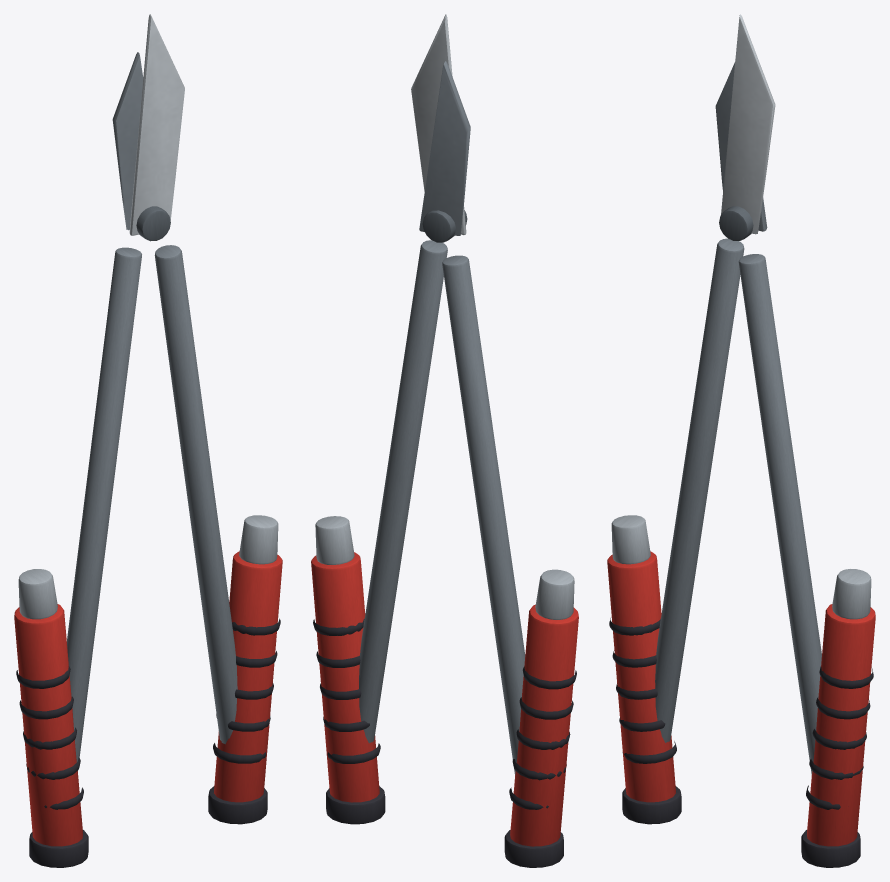
File: tijeras_podar.gltf
3 renders of one model, left to right at view 1: azimuth 30°, elevation 25°; view 2: azimuth 150°, elevation 25°; view 3: azimuth 330°, elevation 25°, orthographic.
Visible parts, largest first — view 1: tijeras_podar; view 2: tijeras_podar; view 3: tijeras_podar.
Boxes of the visible parts, x1,y1,x2,y2 form: tijeras_podar: (14, 14, 282, 867); tijeras_podar: (311, 14, 578, 867); tijeras_podar: (607, 14, 875, 867).
Bounding box in the file's own units: 0.2634 × 0.7887 × 0.052.
6 materials, 6 textured.
